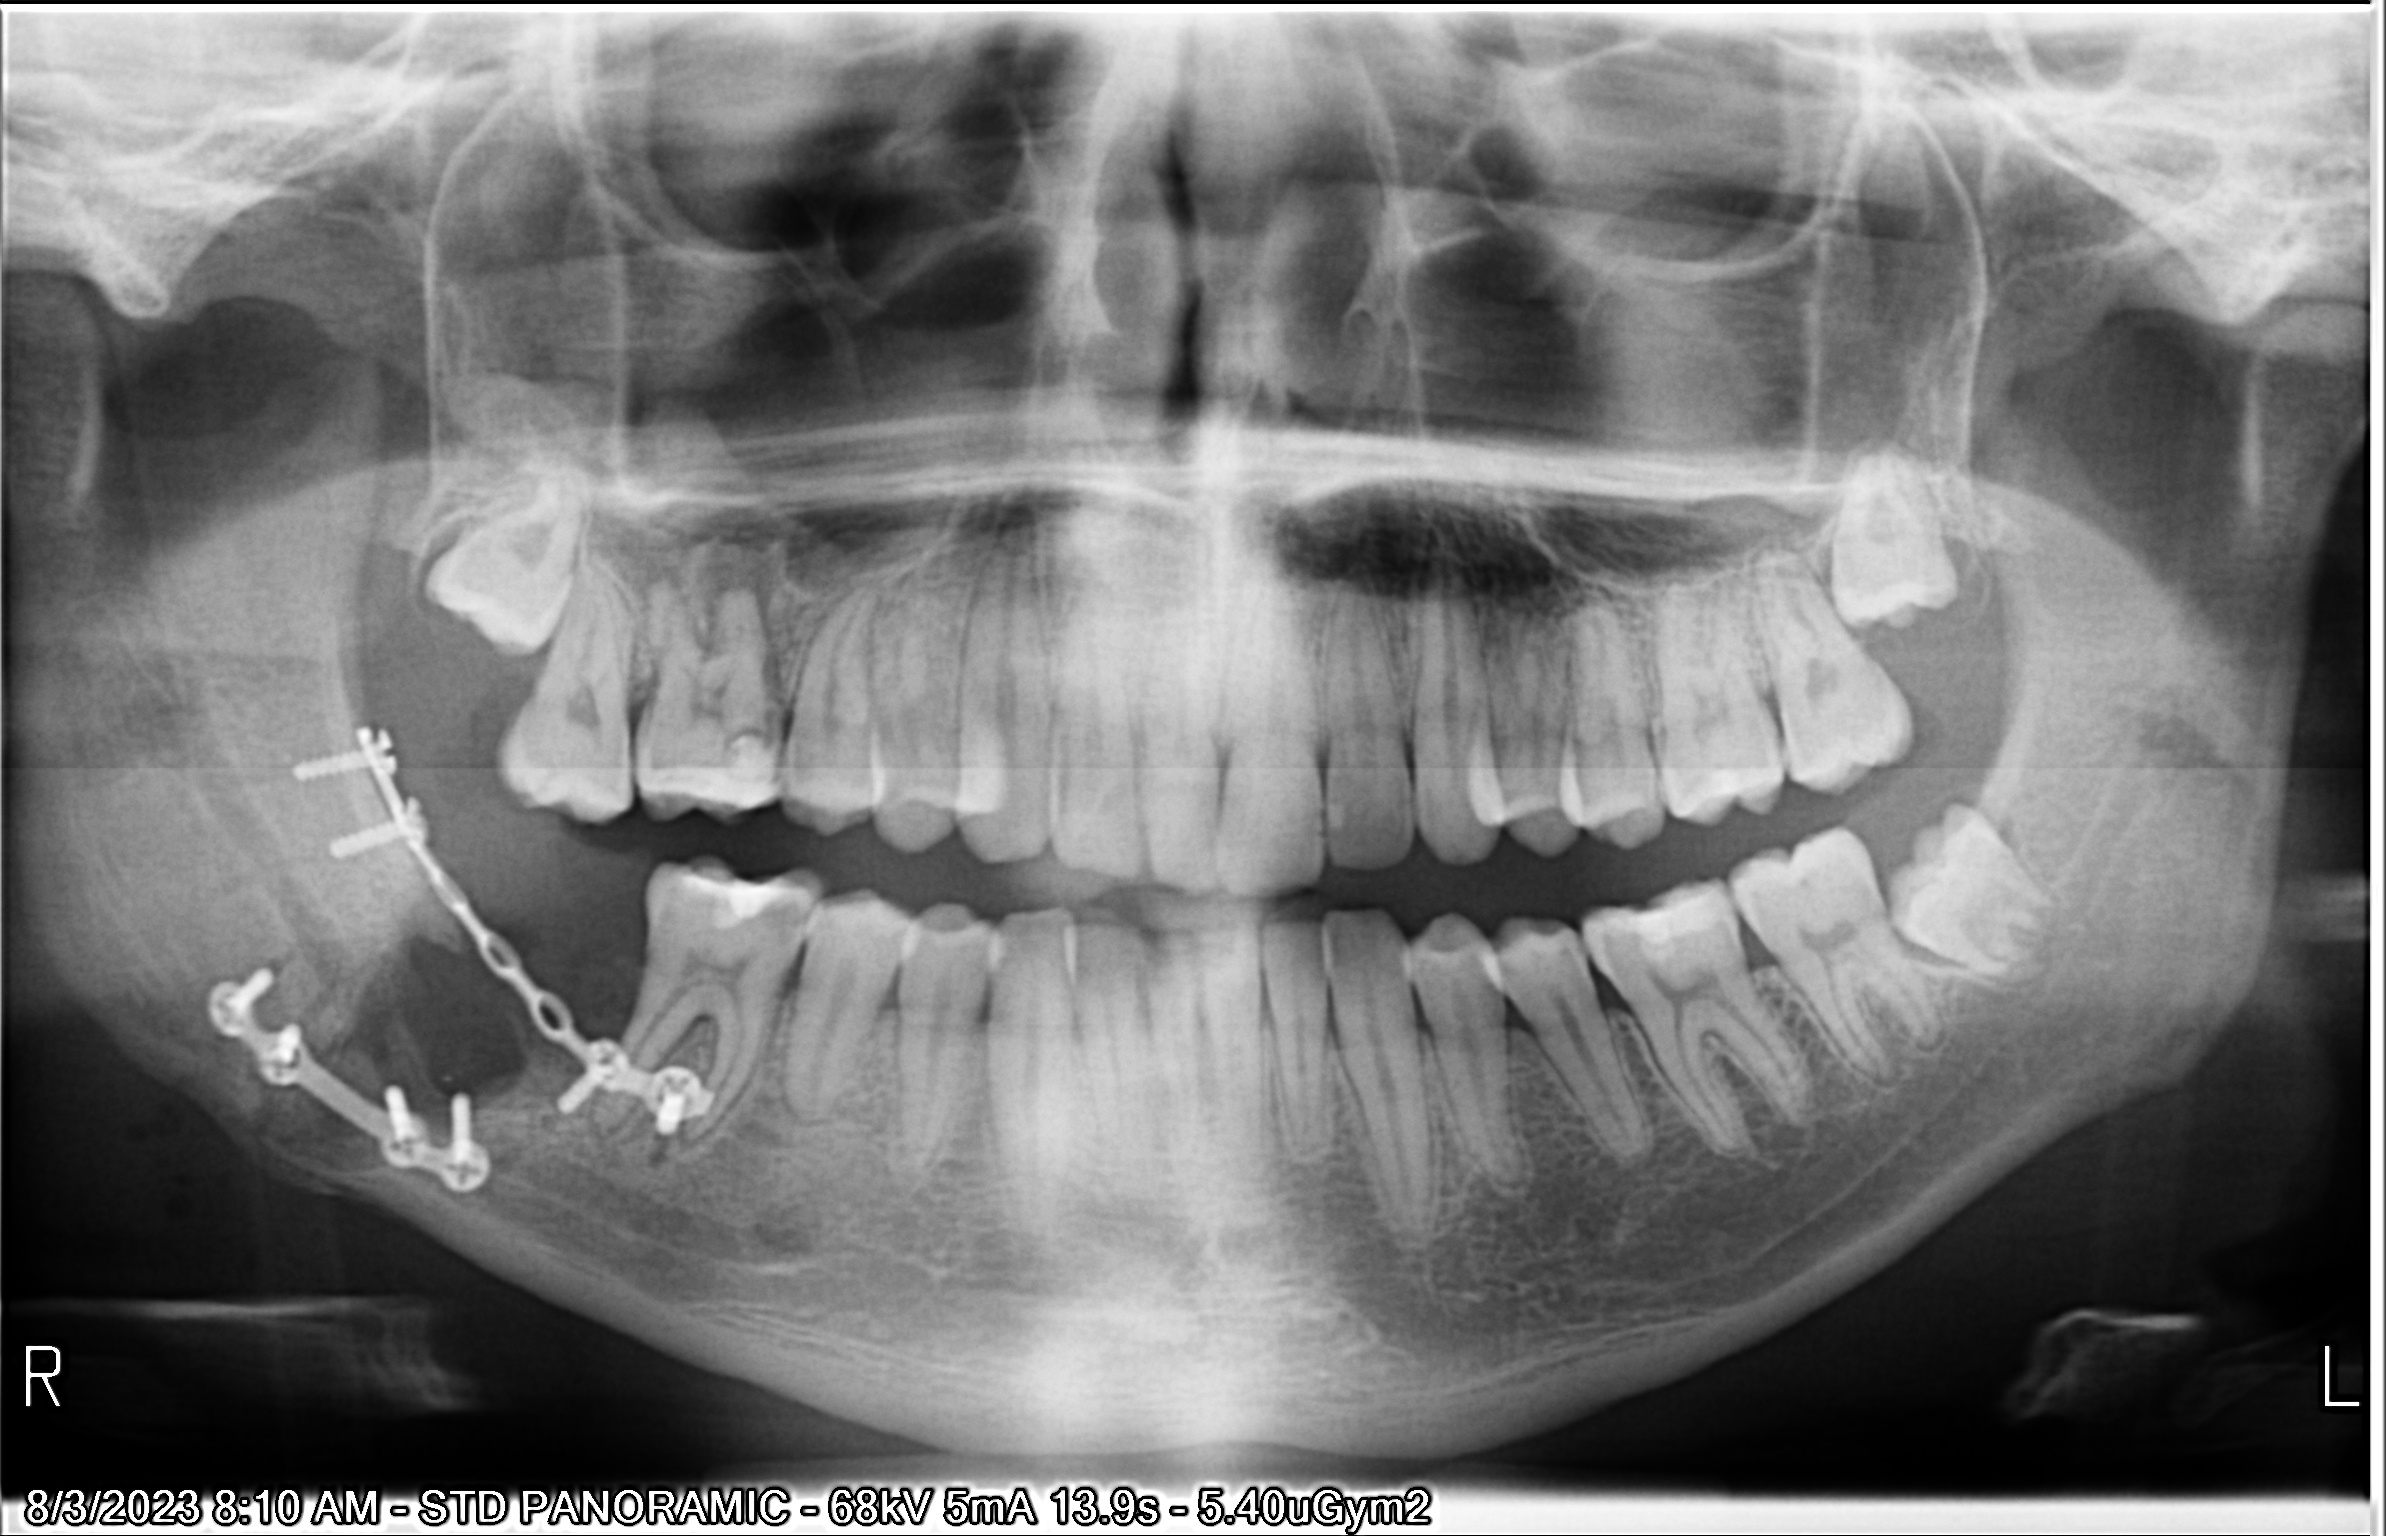API: (676, 511, 788, 614)
CAR: (776, 878, 814, 964), (1494, 950, 1520, 998), (1786, 868, 1819, 892), (1563, 939, 1576, 972), (1402, 791, 1409, 823)
IMT: (1838, 407, 1967, 677), (1915, 811, 2087, 1005), (442, 440, 565, 663)
OBT: (723, 741, 776, 814), (710, 872, 758, 950), (1626, 931, 1682, 983), (1336, 786, 1348, 849)
SRD: (191, 981, 494, 1205), (464, 922, 732, 1146), (289, 725, 471, 934)
